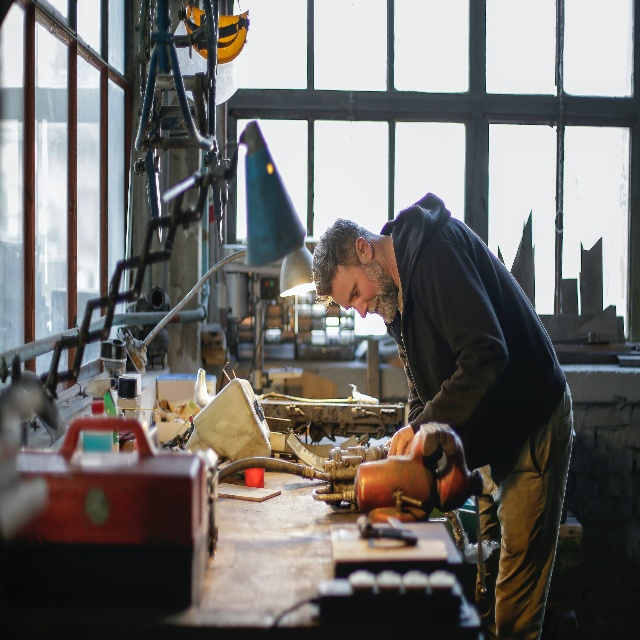Sin_guantes: (386, 429, 415, 458)
